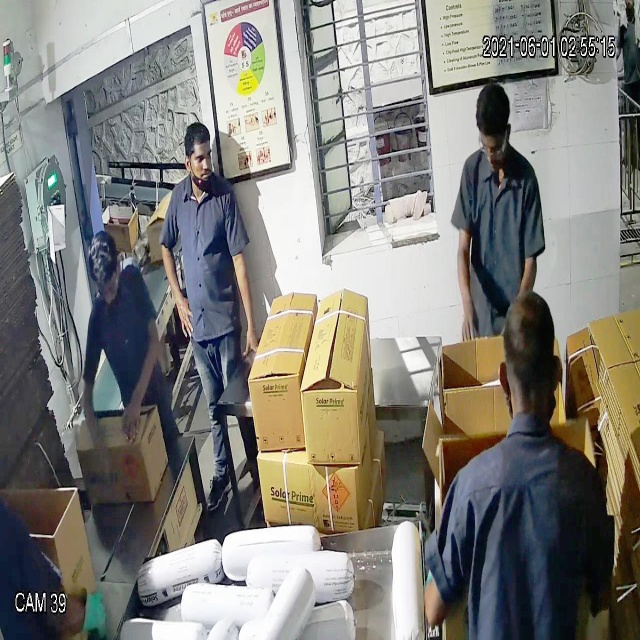Gafas: (475, 125, 514, 164), (90, 270, 124, 308)
